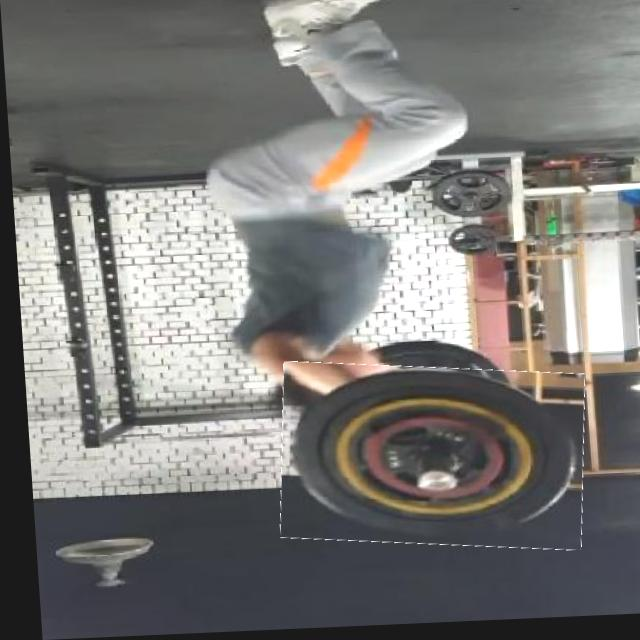barbell: (268, 361, 585, 559)
